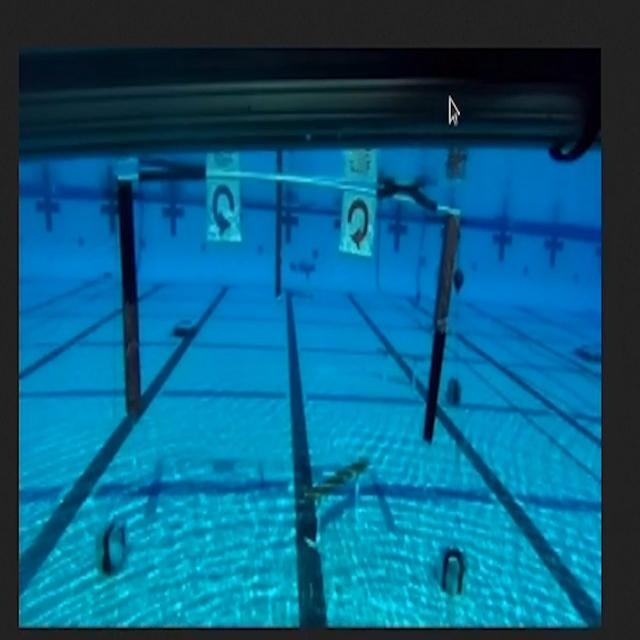Gate: (109, 160, 453, 446)
